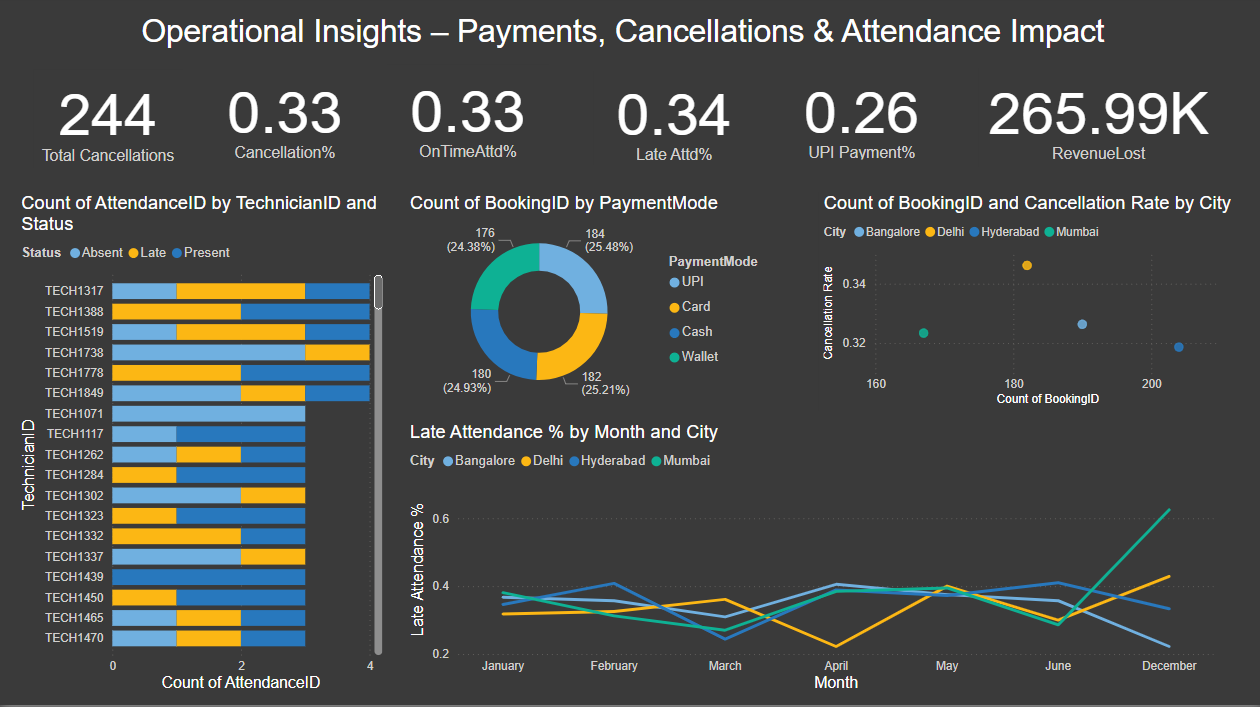

The dashboard page shown, as its layout file describes it:
{"tool":"powerbi","page":{"name":"Operational Insights","canvas":[1280,720],"ordinal":4},"visuals":[{"type":"textbox","box":[138.1,12.7,1035.4,45.6],"z":0},{"type":"card","fields":{"Values":["bookings.RevenueLost"]},"box":[992.3,73.5,243.3,98.9],"z":1000},{"type":"card","fields":{"Values":["bookings.Cancellation%"]},"box":[215.4,72.2,147,98.9],"z":2000},{"type":"card","fields":{"Values":["bookings.TotalCancellations"]},"box":[34.2,74.8,150.8,98.9],"z":3000},{"type":"card","fields":{"Values":["attendance.OnTimeAttendancePercent"]},"box":[392.9,69.7,163.5,102.7],"z":4000},{"type":"card","fields":{"Values":["attendance.Late Attendance %"]},"box":[602,76,163.5,95],"z":5000},{"type":"card","fields":{"Values":["payments.UPI Payment%"]},"box":[792.1,72.2,163.5,98.9],"z":6000},{"type":"barChart","fields":{"Category":["attendance.TechnicianID"],"Y":["CountNonNull(attendance.AttendanceID)"],"Series":["attendance.Status"]},"box":[16.5,199,376.4,510.7],"z":7000},{"type":"donutChart","fields":{"Category":["payments.PaymentMode"],"Y":["CountNonNull(payments.BookingID)"]},"box":[410.6,199,381.5,221.8],"z":8000},{"type":"lineChart","fields":{"Category":["attendance.Date.Variation.Date Hierarchy.Month"],"Y":["attendance.Late Attendance %"],"Series":["bookings.City"]},"box":[410.6,430.9,825,278.8],"z":9000},{"type":"scatterChart","fields":{"Y":["bookings.Cancellation Rate"],"X":["bookings.BookingID"],"Series":["bookings.City"]},"box":[830.1,199,423.3,221.8],"z":10000}]}

Visuals, with their boxes in screenshot pixels (x1, y1, x2, y2), scaled from the page's 1280x720 canvas onto the 1260x707 screenshot:
textbox: x1=136, y1=12, x2=1155, y2=57
card - bookings.RevenueLost: x1=977, y1=72, x2=1216, y2=169
card - bookings.Cancellation%: x1=212, y1=71, x2=357, y2=168
card - bookings.TotalCancellations: x1=34, y1=73, x2=182, y2=171
card - attendance.OnTimeAttendancePercent: x1=387, y1=68, x2=548, y2=169
card - attendance.Late Attendance %: x1=593, y1=75, x2=754, y2=168
card - payments.UPI Payment%: x1=780, y1=71, x2=941, y2=168
barChart - attendance.TechnicianID x CountNonNull(attendance.AttendanceID): x1=16, y1=195, x2=387, y2=697
donutChart - payments.PaymentMode x CountNonNull(payments.BookingID): x1=404, y1=195, x2=780, y2=413
lineChart - attendance.Date.Variation.Date Hierarchy.Month x attendance.Late Attendance %: x1=404, y1=423, x2=1216, y2=697
scatterChart - bookings.Cancellation Rate x bookings.BookingID: x1=817, y1=195, x2=1234, y2=413
